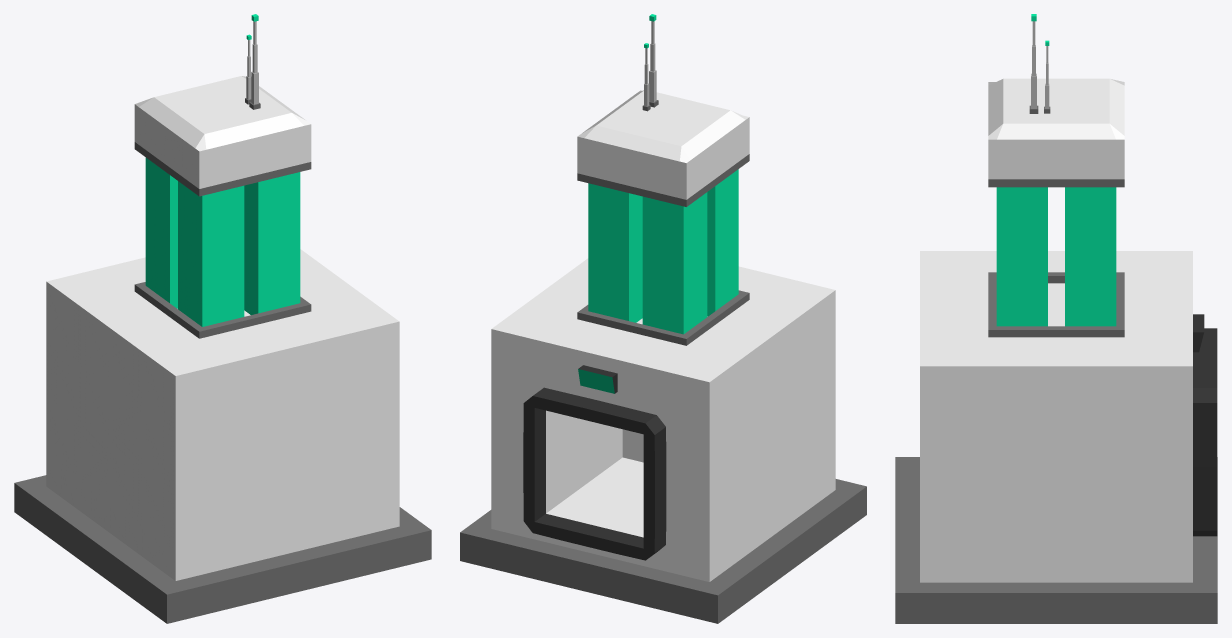
The model's file is Generator.fbx.
The picture shows the model from 3 angles, left to right: view 1: azimuth 30°, elevation 25°; view 2: azimuth 150°, elevation 25°; view 3: azimuth 270°, elevation 25°; orthographic projection. The views are drawn at different scales.
Parts seen in each view (by area): view 1: Generator; view 2: Generator; view 3: Generator.
Part boxes in pixels (box(x1,y1,x2,y2)): Generator: box(14, 14, 431, 623); Generator: box(460, 14, 866, 623); Generator: box(895, 14, 1217, 623).
Bounding box in the file's own units: 325 × 614 × 325.
